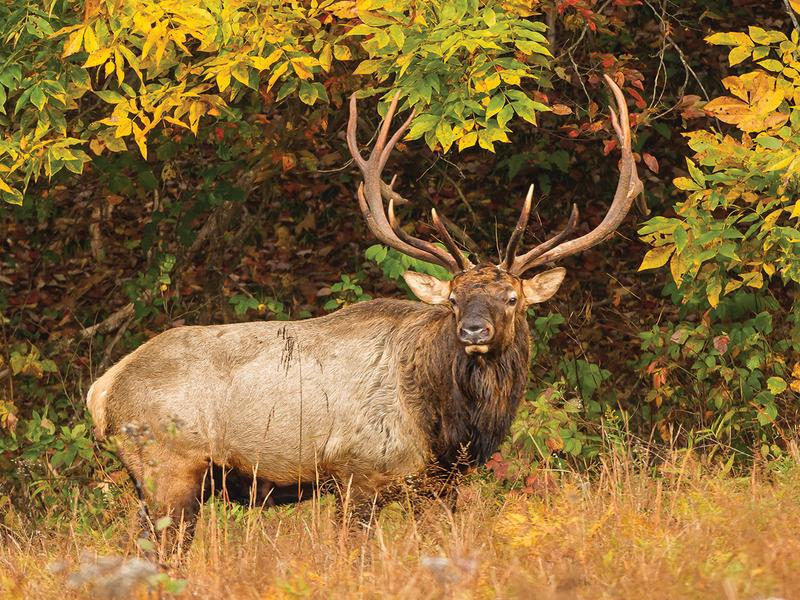elk: (86, 140, 646, 563)
